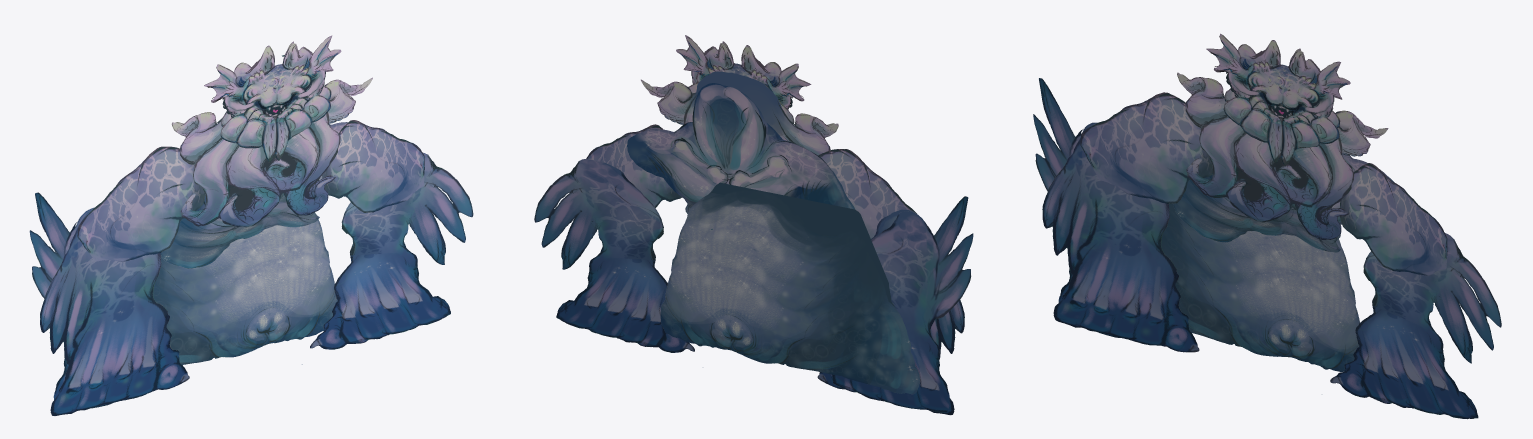
File: cthulu 1.FBX
3 views of the same model, side by side, from view 1: azimuth 30°, elevation 25°; view 2: azimuth 150°, elevation 25°; view 3: azimuth 330°, elevation 25° (orthographic). The views are drawn at different scales.
Visible parts, largest first — view 1: cthulu_torso, cthulu_arm_lower_R, cthulu_arm_lower_L, cthulu_tentacles, cthulu_head_open, cthulu_arm_upper_R, cthulu_arm_upper_L, cthulu_torso_upper, cthulu_arm_punch_R; view 2: cthulu_torso, cthulu_arm_lower_L, cthulu_torso_upper, cthulu_arm_punch_R, cthulu_tentacles, cthulu_head_close, cthulu_arm_upper_R, cthulu_arm_upper_L, cthulu_arm_lower_R; view 3: cthulu_torso, cthulu_arm_lower_R, cthulu_arm_lower_L, cthulu_tentacles, cthulu_head_open, cthulu_arm_upper_R, cthulu_arm_upper_L, cthulu_torso_upper, cthulu_arm_punch_R.
Boxes of the visible parts, box(x1,y1,x2,y2) form: cthulu_torso: box(153, 220, 337, 364); cthulu_arm_lower_R: box(40, 209, 189, 415); cthulu_arm_lower_L: box(302, 152, 473, 364); cthulu_tentacles: box(171, 55, 372, 227); cthulu_head_open: box(204, 35, 340, 162); cthulu_arm_upper_R: box(77, 146, 205, 262); cthulu_arm_upper_L: box(322, 120, 424, 212); cthulu_torso_upper: box(160, 122, 347, 268); cthulu_arm_punch_R: box(29, 192, 157, 408); cthulu_torso: box(660, 182, 919, 394); cthulu_arm_lower_L: box(534, 159, 694, 352); cthulu_torso_upper: box(627, 83, 855, 229); cthulu_arm_punch_R: box(832, 196, 973, 412); cthulu_tentacles: box(641, 54, 838, 203); cthulu_head_close: box(676, 35, 809, 123); cthulu_arm_upper_R: box(818, 149, 928, 238); cthulu_arm_upper_L: box(586, 124, 681, 207); cthulu_arm_lower_R: box(817, 209, 964, 415); cthulu_torso: box(1161, 203, 1359, 371); cthulu_arm_lower_R: box(1042, 123, 1199, 352); cthulu_arm_lower_L: box(1330, 233, 1501, 419); cthulu_tentacles: box(1177, 72, 1388, 239); cthulu_head_open: box(1206, 33, 1349, 166); cthulu_arm_upper_R: box(1080, 92, 1212, 204); cthulu_arm_upper_L: box(1340, 163, 1447, 275); cthulu_torso_upper: box(1173, 154, 1394, 252); cthulu_arm_punch_R: box(1033, 78, 1166, 346).
Bounding box in the file's own units: 78.03 × 53.99 × 2.34.
